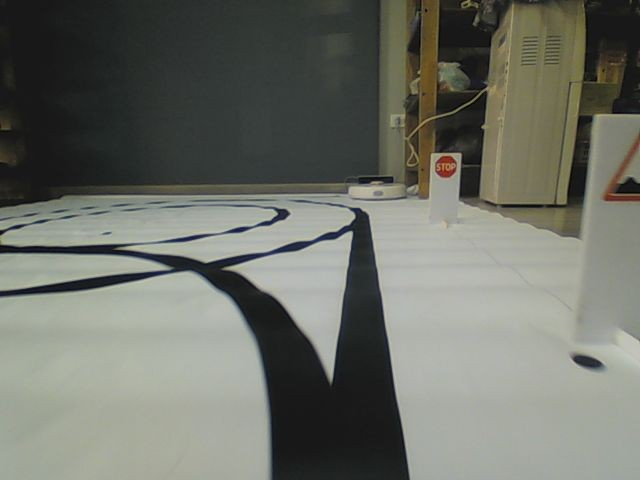Stop: (433, 154, 458, 179)
